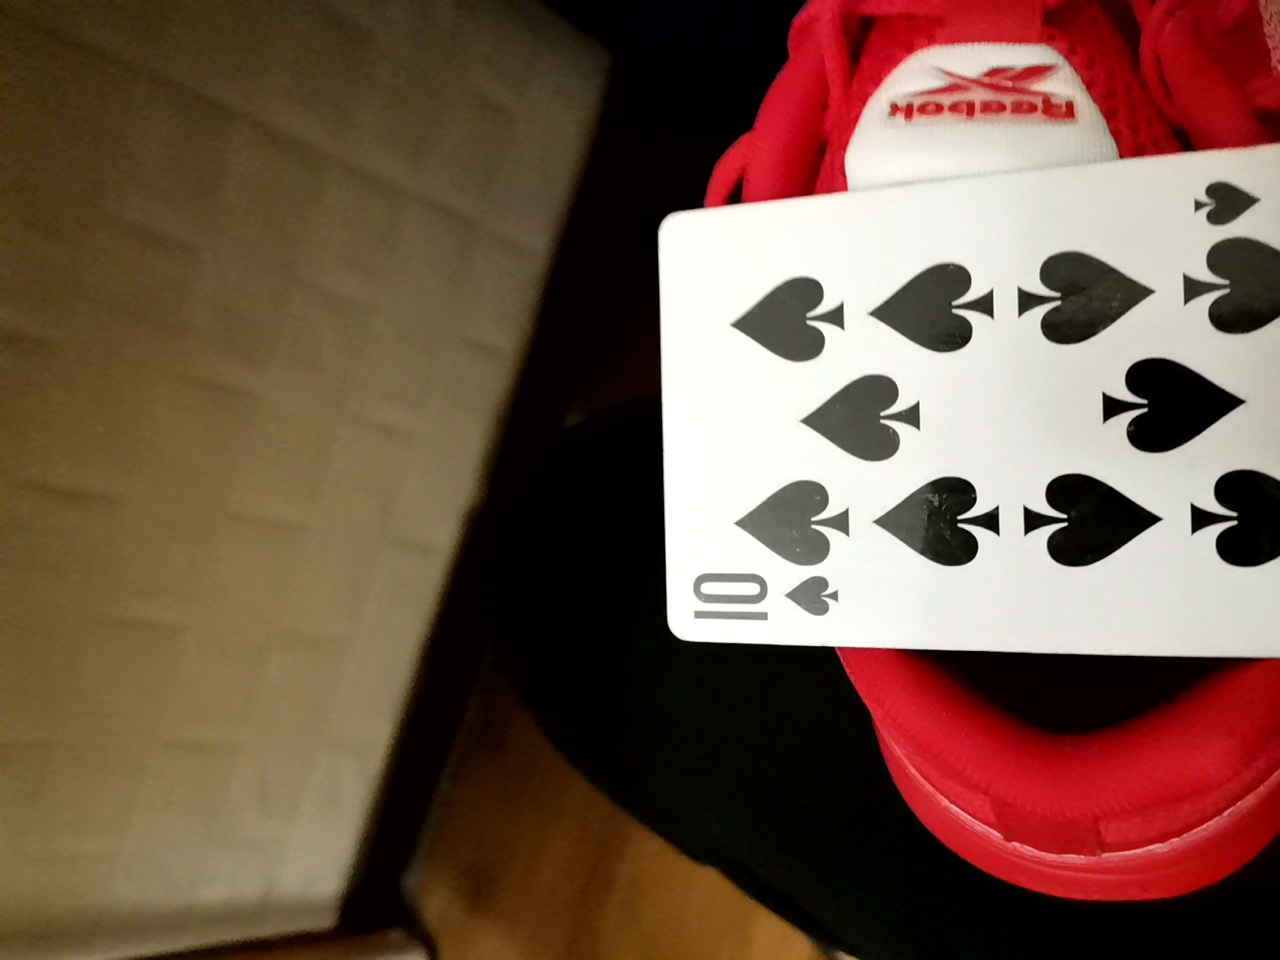ht 10: (619, 127, 1276, 641)
